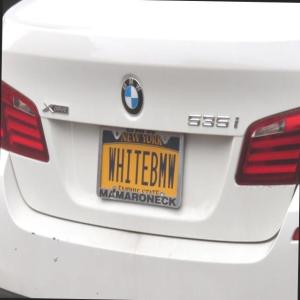Plate: (96, 125, 185, 209)
